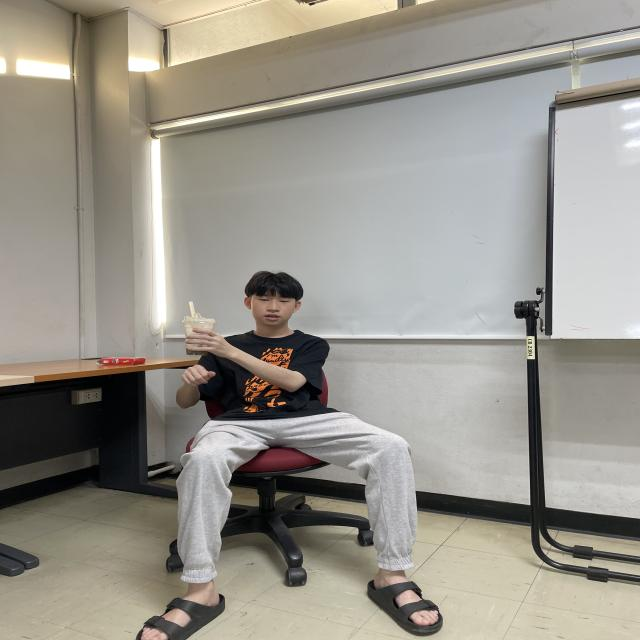cup: (178, 314, 218, 356)
